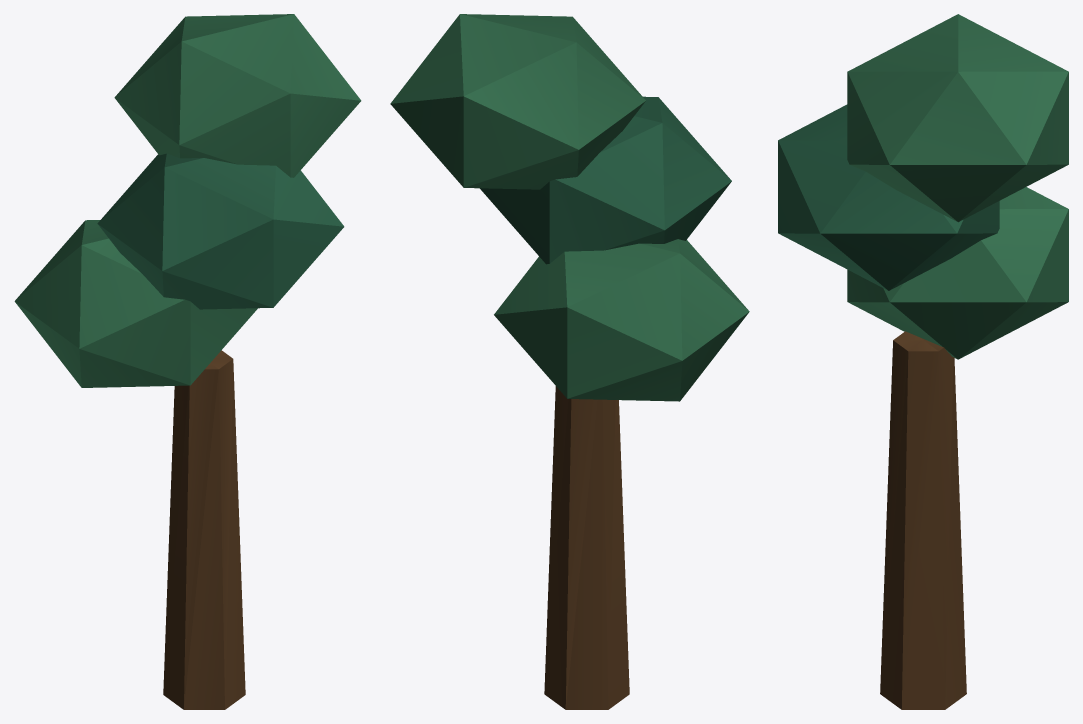
The model's file is arbre.glb.
3 views of the same model, side by side, from view 1: azimuth 30°, elevation 25°; view 2: azimuth 150°, elevation 25°; view 3: azimuth 270°, elevation 25° (orthographic). The views are drawn at different scales.
Parts seen in each view (by area): view 1: arbre; view 2: arbre; view 3: arbre.
Part boxes in pixels (bbox=[...]): arbre: bbox=[14, 14, 361, 709]; arbre: bbox=[390, 14, 749, 709]; arbre: bbox=[778, 14, 1068, 709].
Size of the model in its own units: 0.7904 by 1.72 by 0.6704.
